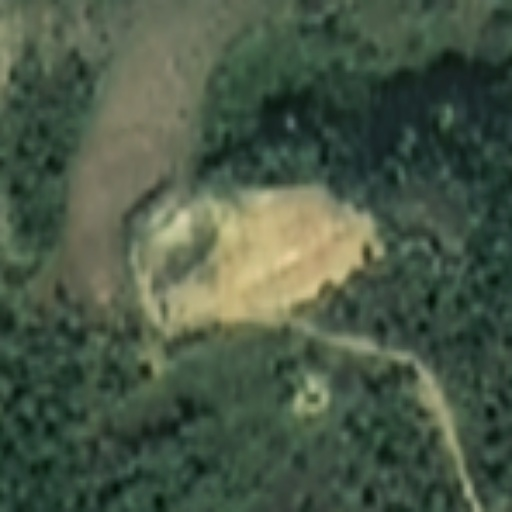landslide: (137, 184, 372, 339)
